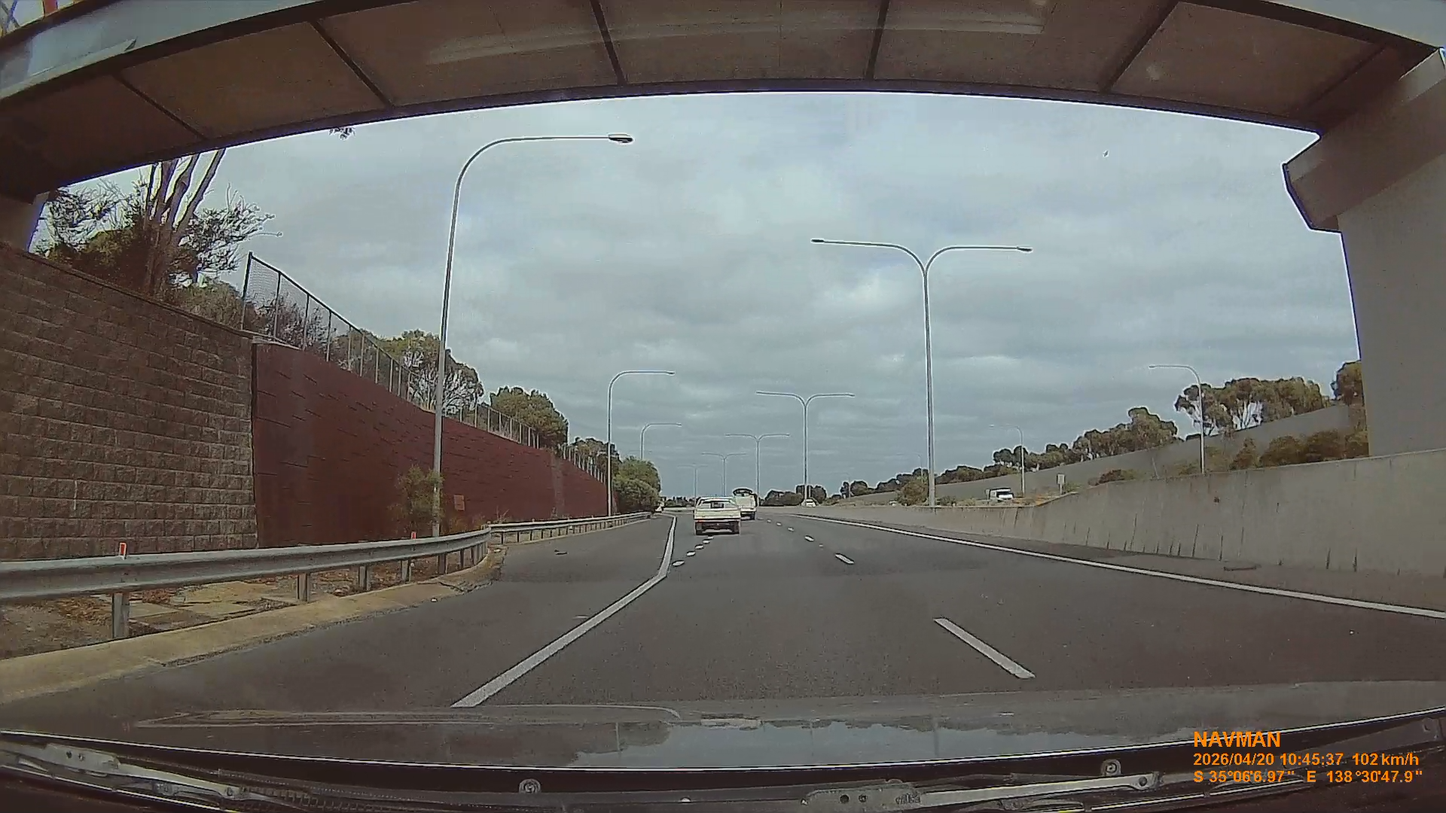road barriers: (789, 450, 1444, 607), (5, 516, 609, 644), (503, 515, 615, 547)
